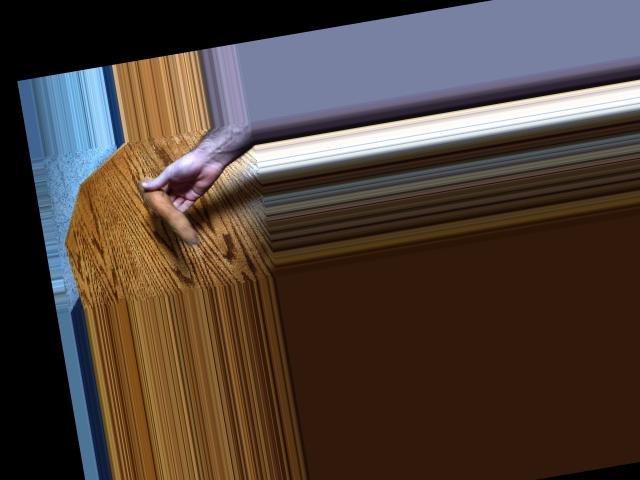sweet_potato: (136, 167, 199, 252)
